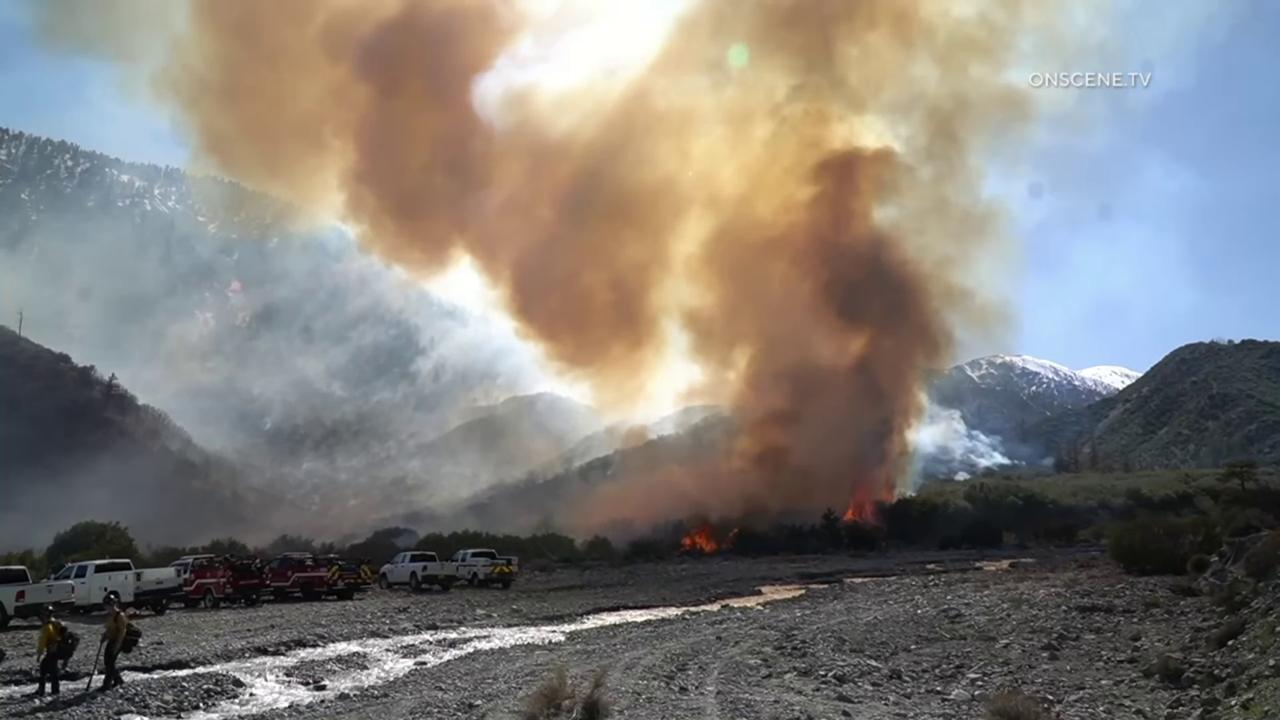fire: (841, 484, 874, 526), (681, 528, 719, 556), (882, 492, 892, 505), (727, 528, 738, 537)
smoke: (0, 0, 1122, 564)
